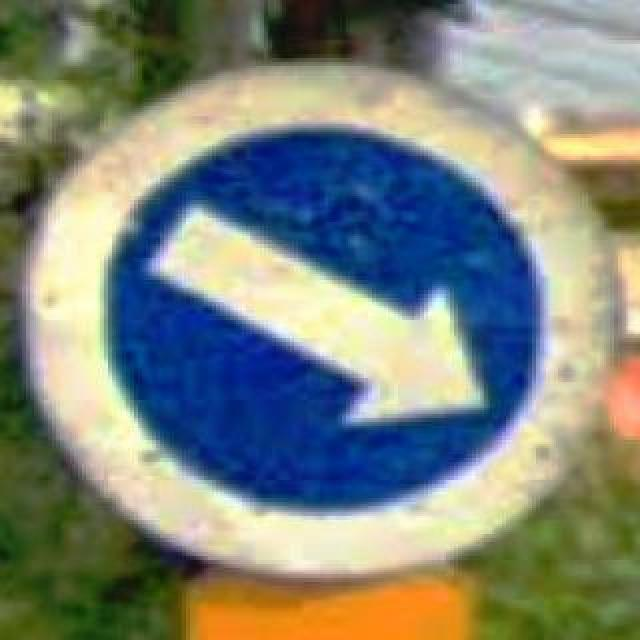keep right: (14, 52, 618, 586)
